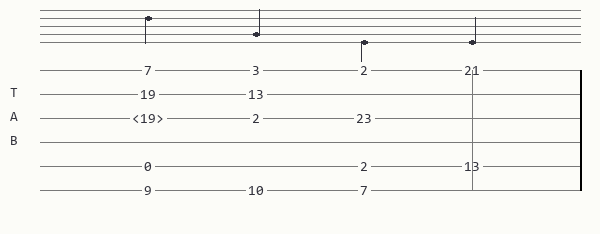0: (144, 160, 156, 173)
10: (248, 184, 268, 197)
13: (248, 88, 268, 101), (464, 160, 484, 173)
19: (140, 88, 160, 101)
2: (252, 112, 264, 125), (360, 64, 372, 77), (360, 160, 372, 173)
21: (464, 64, 484, 77)
23: (356, 112, 376, 125)
3: (252, 64, 264, 77)
7: (144, 64, 156, 77), (360, 184, 372, 197)
9: (144, 184, 156, 197)
harmonic: (132, 112, 168, 125)
